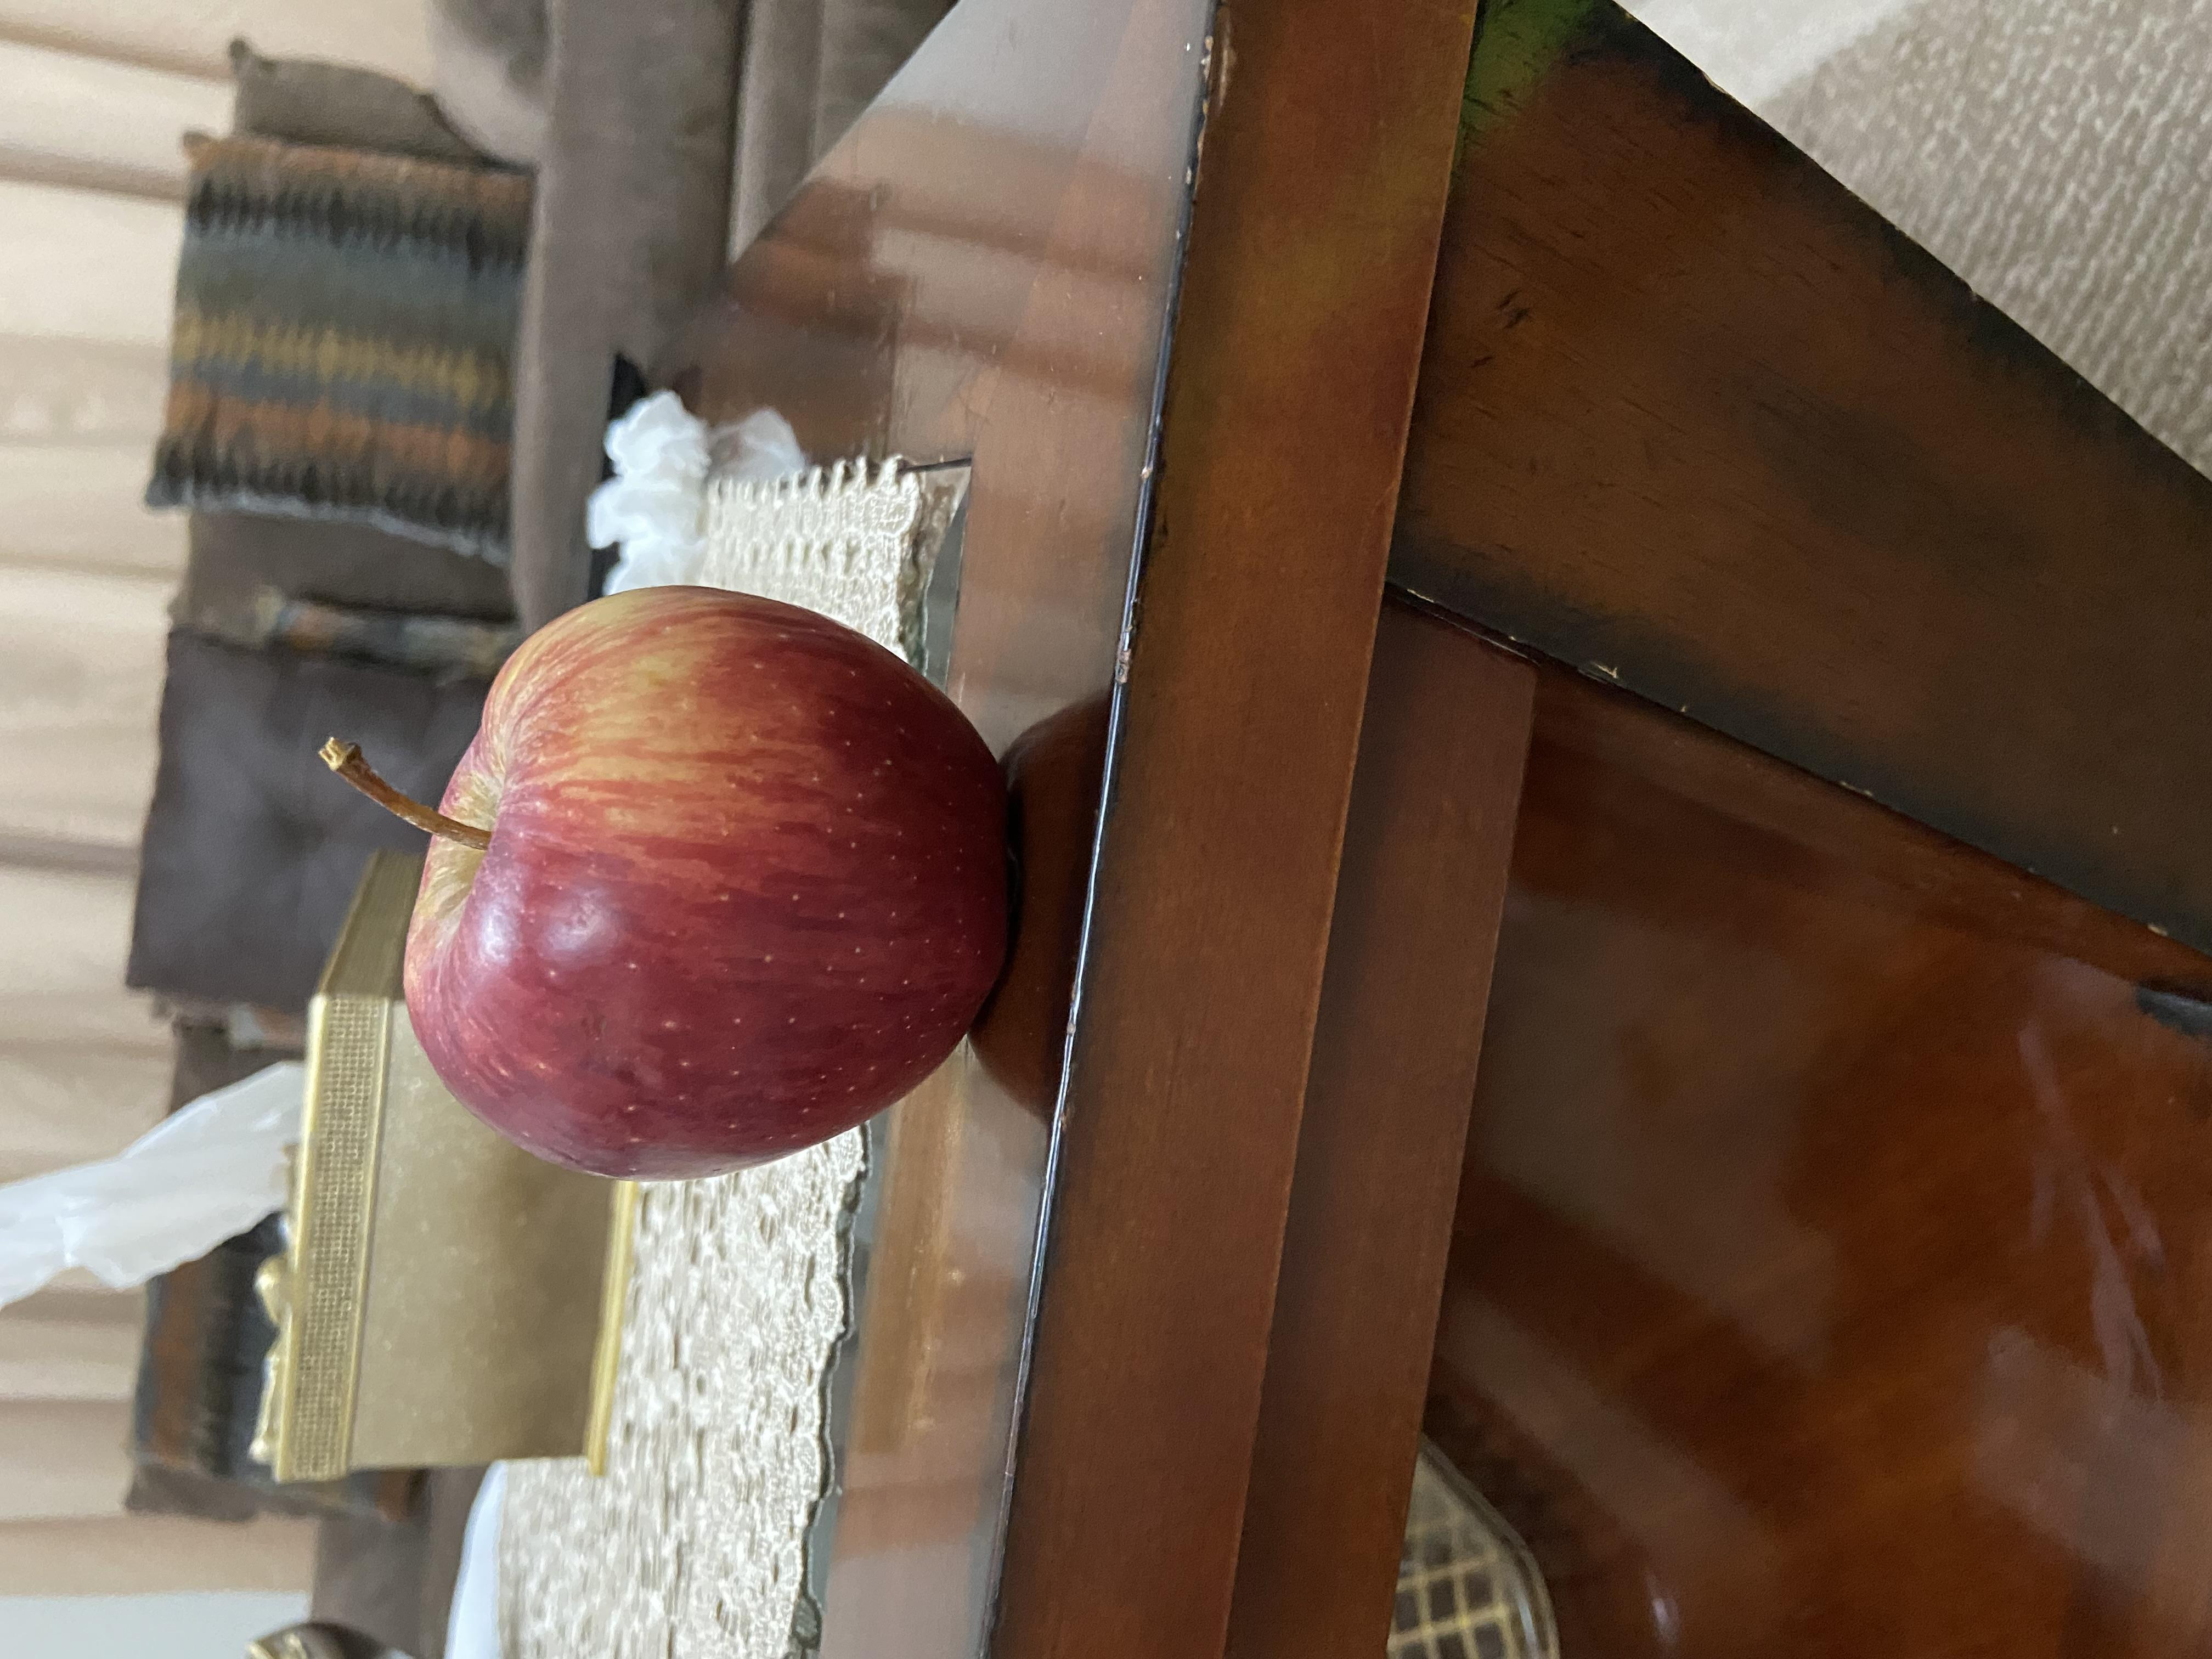Apple: (646, 235, 1449, 762)
